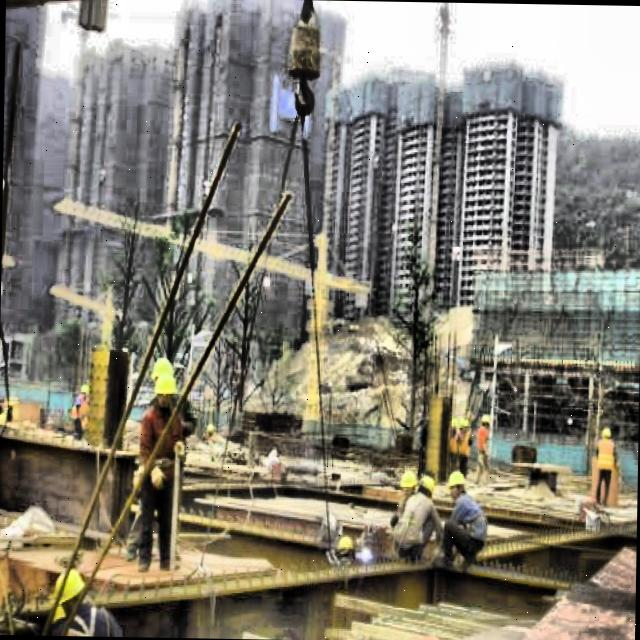helmet: (50, 564, 91, 622), (396, 464, 422, 507), (153, 373, 178, 409), (444, 467, 469, 502), (418, 468, 439, 506)
